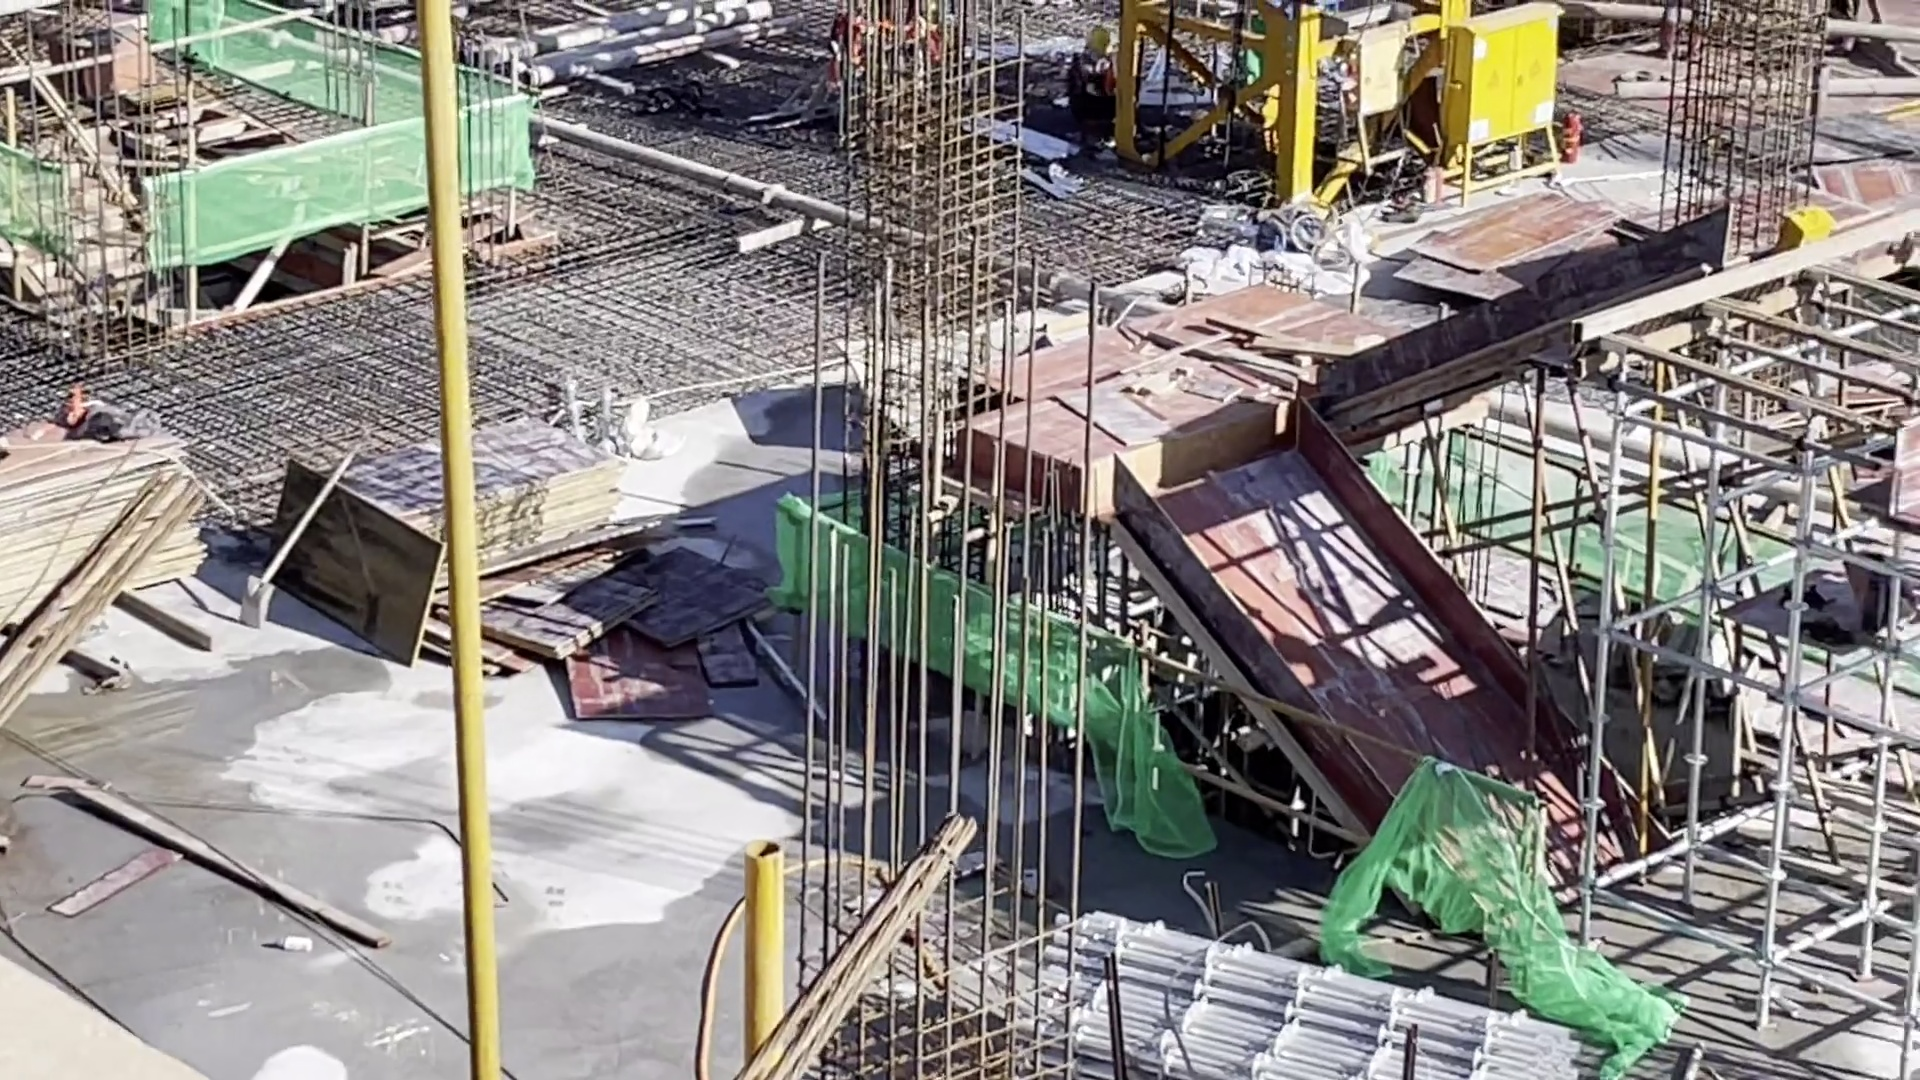board: (358, 449, 634, 617), (1, 398, 214, 584)
ebox: (1431, 1, 1588, 172), (1331, 7, 1423, 131), (1798, 202, 1866, 269)
helmet: (1078, 28, 1113, 50)
person: (1059, 21, 1118, 140)
scaffold: (991, 884, 1489, 1080)
vest: (1074, 51, 1116, 109)
